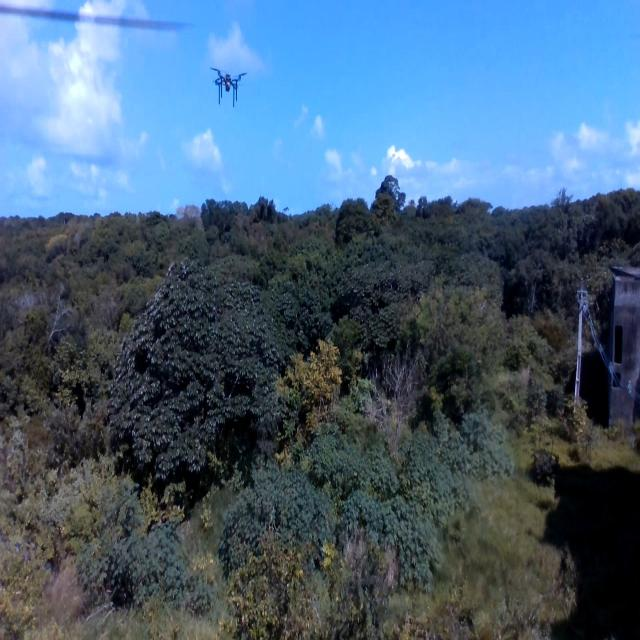-uav-: (206, 56, 258, 123)
